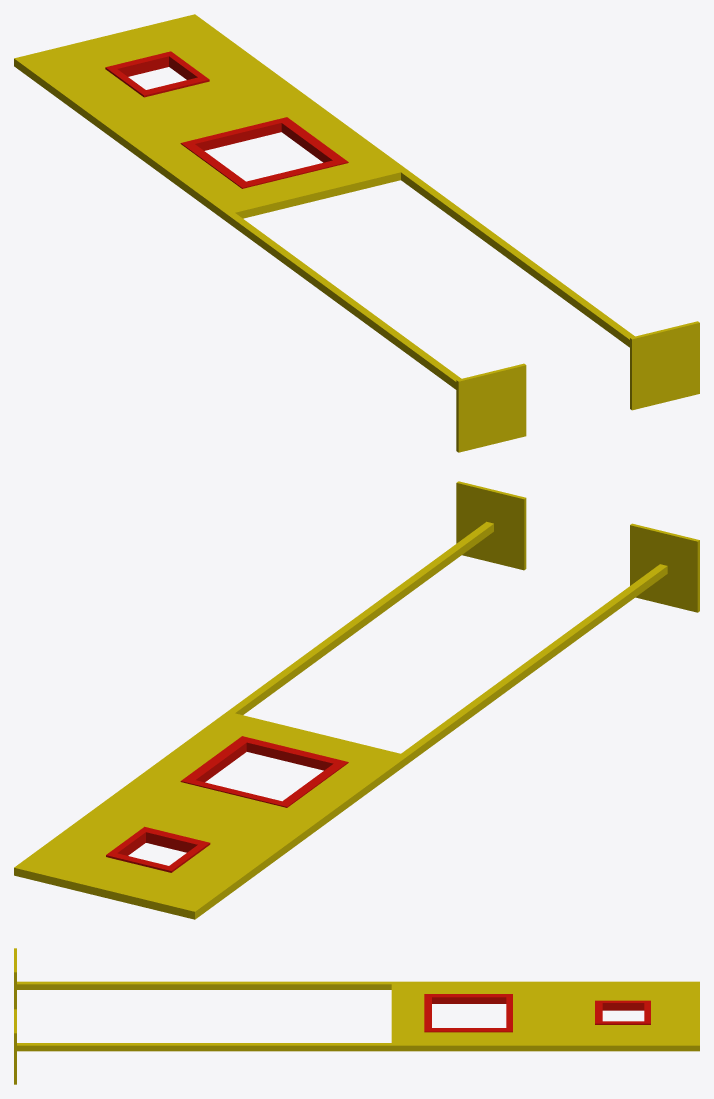
File: torpedo_board.dae
The picture shows the model from 3 angles, top to bottom: view 1: azimuth 30°, elevation 25°; view 2: azimuth 150°, elevation 25°; view 3: azimuth 270°, elevation 25°; orthographic projection. The views are drawn at different scales.
Parts seen in each view (by area): view 1: torpedo_board_temp, torpedo_board_holes; view 2: torpedo_board_temp, torpedo_board_holes; view 3: torpedo_board_temp, torpedo_board_holes.
Part boxes in pixels (left/top/right/bottom): torpedo_board_temp: left=14, top=14, right=699, bottom=452; torpedo_board_holes: left=105, top=51, right=348, bottom=188; torpedo_board_temp: left=14, top=481, right=699, bottom=919; torpedo_board_holes: left=106, top=736, right=348, bottom=872; torpedo_board_temp: left=14, top=948, right=699, bottom=1084; torpedo_board_holes: left=424, top=994, right=650, bottom=1032.
Bounding box in the file's own units: 0.8128 × 2.77 × 0.2286.
